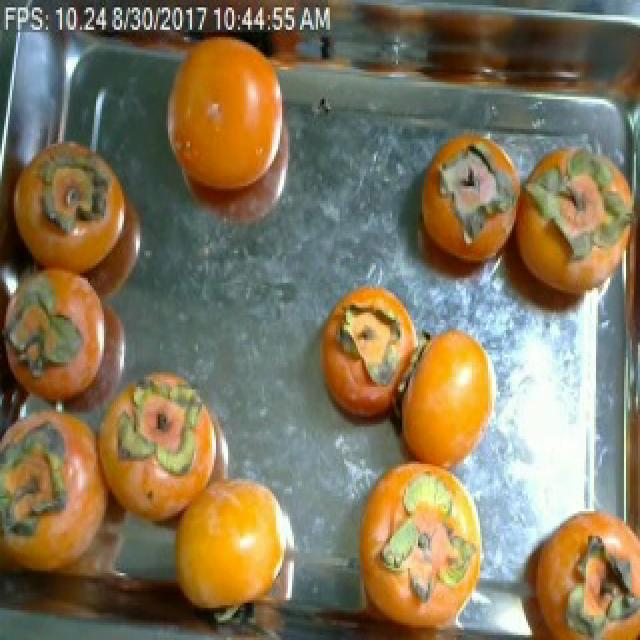Fruit: (144, 12, 292, 236), (156, 454, 320, 637), (384, 313, 510, 496), (306, 270, 424, 437), (510, 496, 634, 640), (122, 357, 234, 501)
